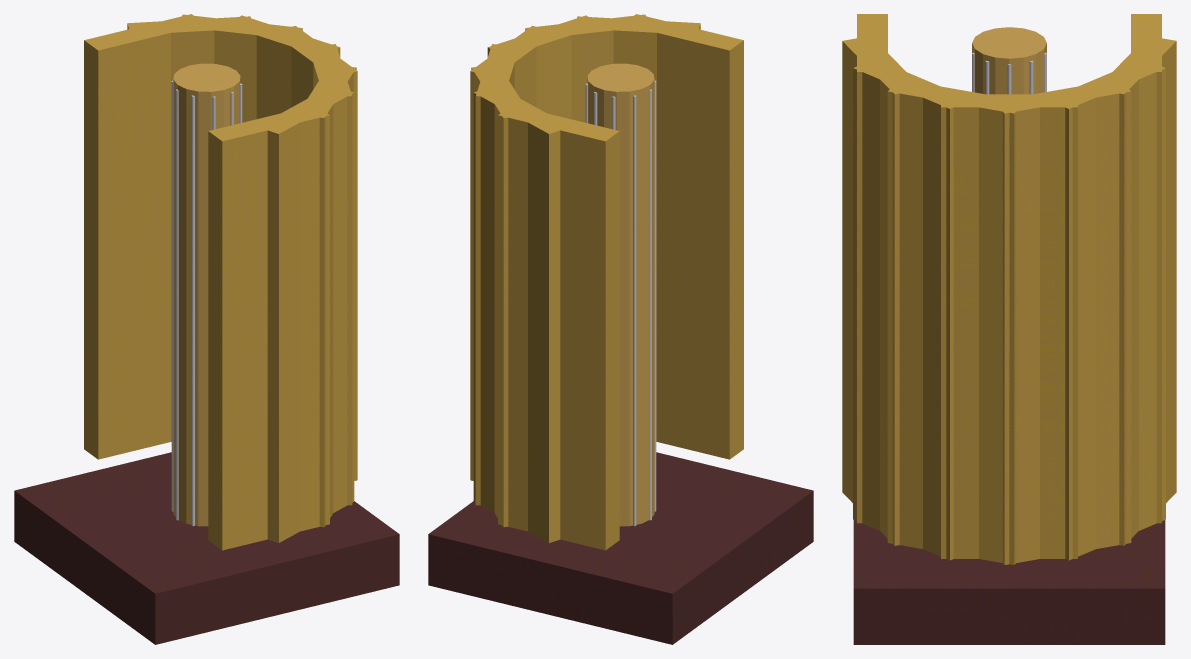
Rendered from sasando.glb.
3 views of the same model, side by side, from view 1: azimuth 30°, elevation 25°; view 2: azimuth 150°, elevation 25°; view 3: azimuth 270°, elevation 25° (orthographic). The views are drawn at different scales.
Parts seen in each view (by area): view 1: Cylinder; view 2: Cylinder; view 3: Cylinder.
Part boxes in pixels (x1=…): Cylinder: x1=14, y1=14, x2=399, y2=644; Cylinder: x1=428, y1=14, x2=813, y2=644; Cylinder: x1=842, y1=14, x2=1176, y2=644.
Bounding box in the file's own units: 0.5457 × 1 × 0.5651.
Materials: 1 (1 with a texture image).
